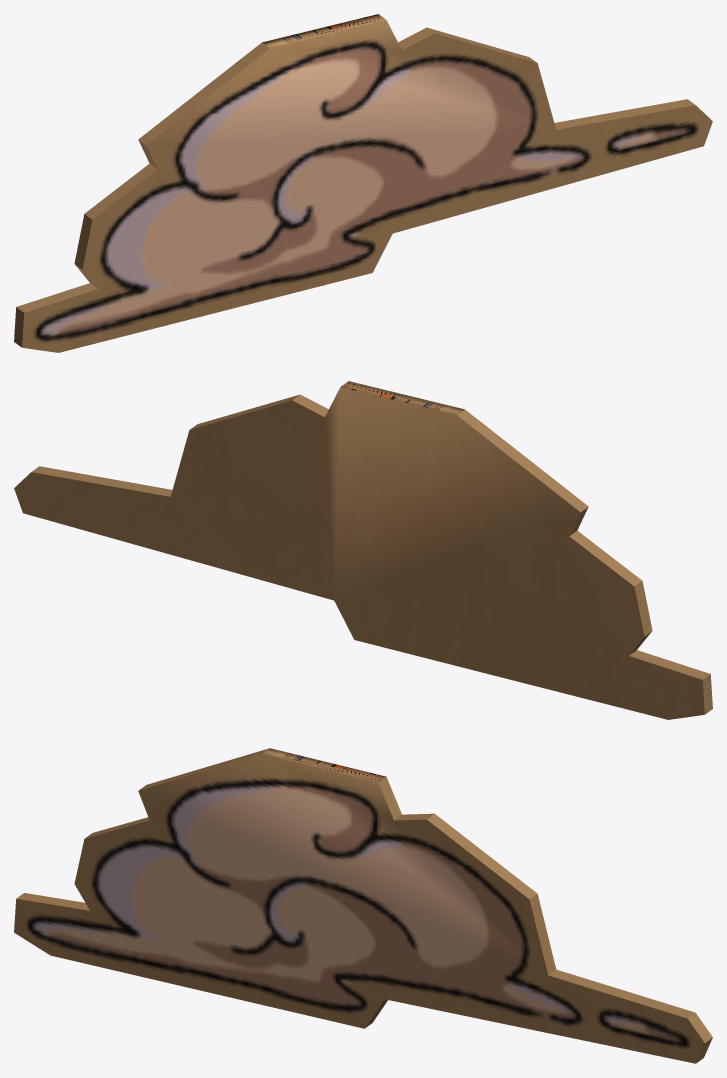
The model's file is SM_Nuage_VF.fbx.
3 renders of one model, top to bottom at view 1: azimuth 30°, elevation 25°; view 2: azimuth 150°, elevation 25°; view 3: azimuth 330°, elevation 25°, orthographic.
Visible parts, largest first — view 1: Nuage; view 2: Nuage; view 3: Nuage.
Part boxes in pixels (x1,y1,x2,y2): Nuage: (14,14,712,352); Nuage: (14,381,712,719); Nuage: (14,748,712,1063).
Size of the model in its own units: 276 by 96.74 by 5.59.
